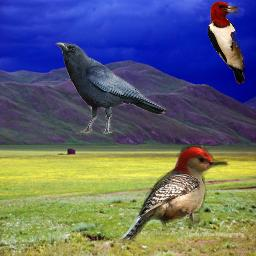Crow: (55, 42, 166, 136)
Woodpecker: (117, 144, 231, 243), (207, 1, 245, 84)
